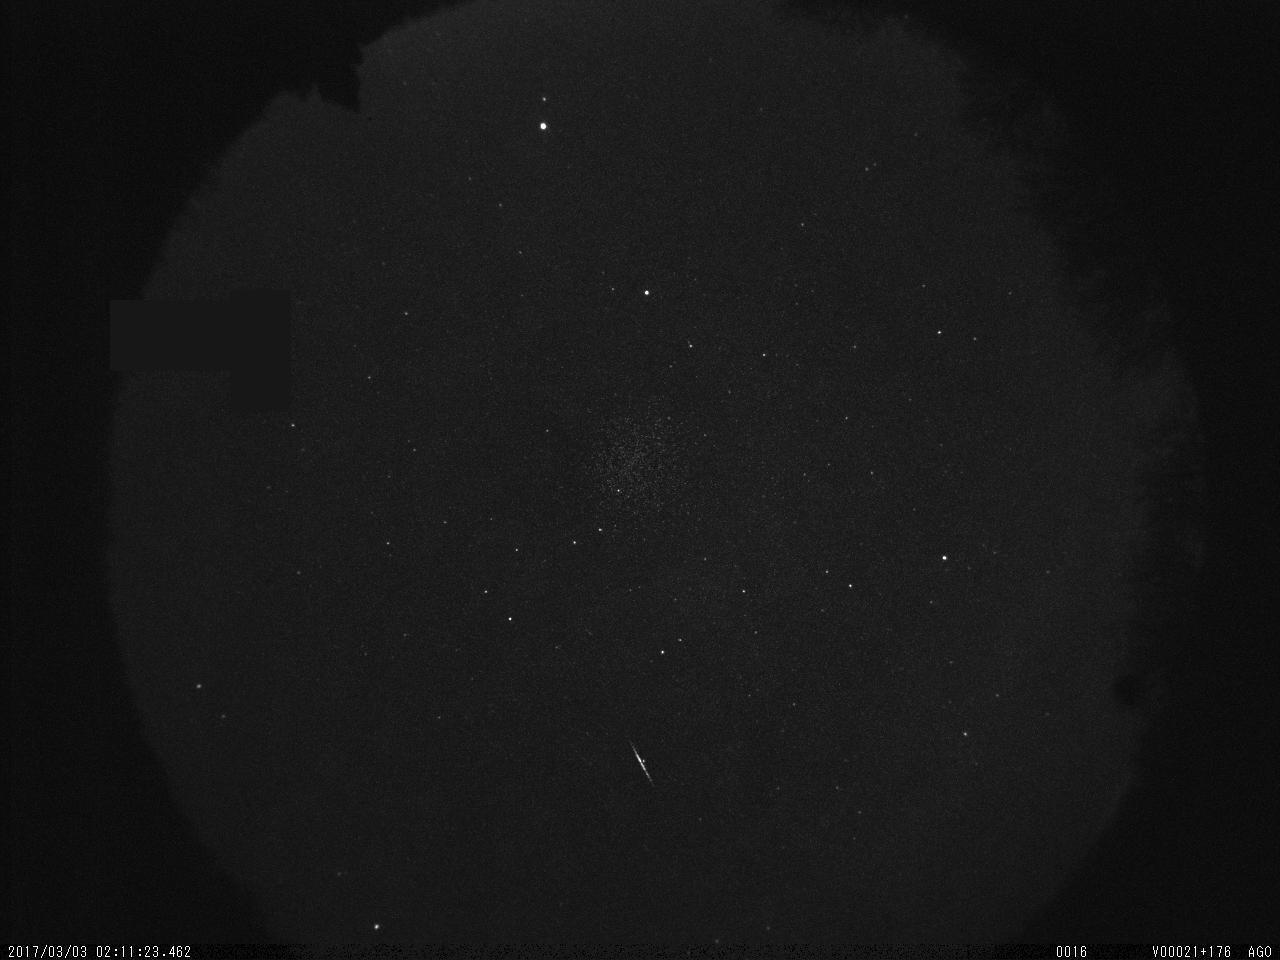meteor: (618, 733, 655, 798)
